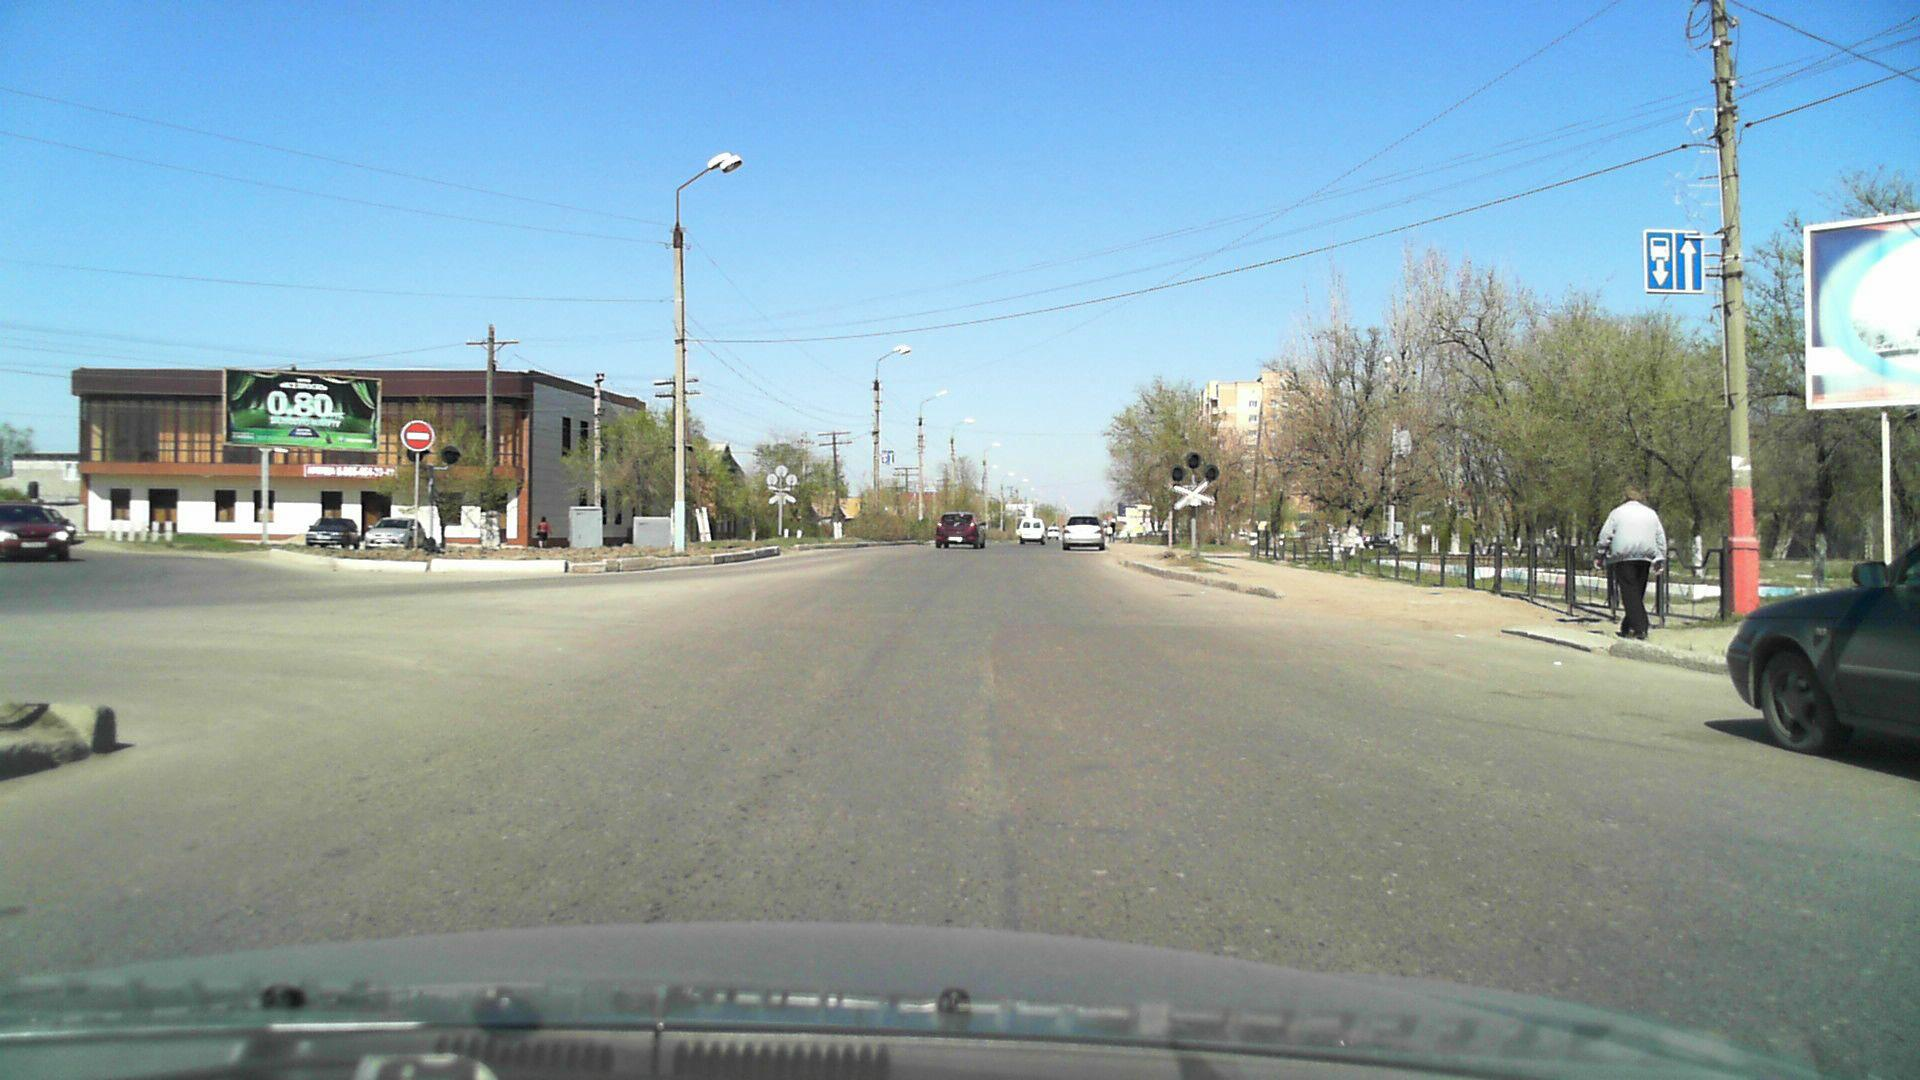1_3_1: (1172, 483, 1217, 509)
3_1: (402, 418, 439, 452)
5_11_1: (1642, 227, 1704, 295), (880, 450, 893, 464)
